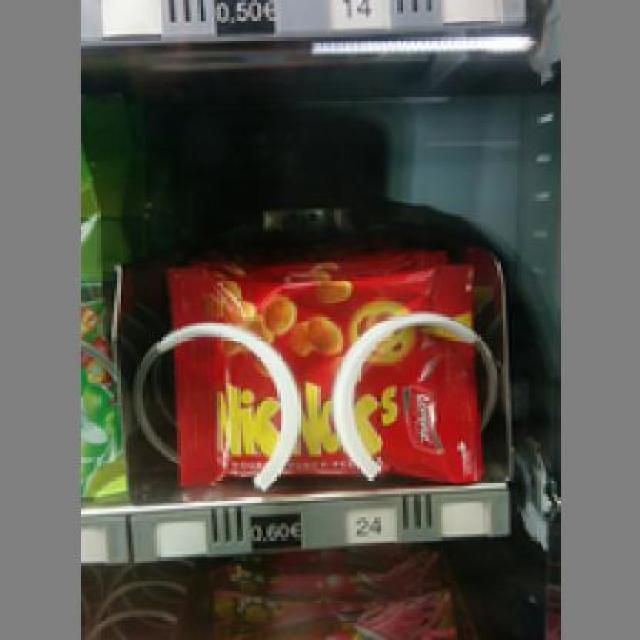Nuts: (160, 260, 480, 483)
